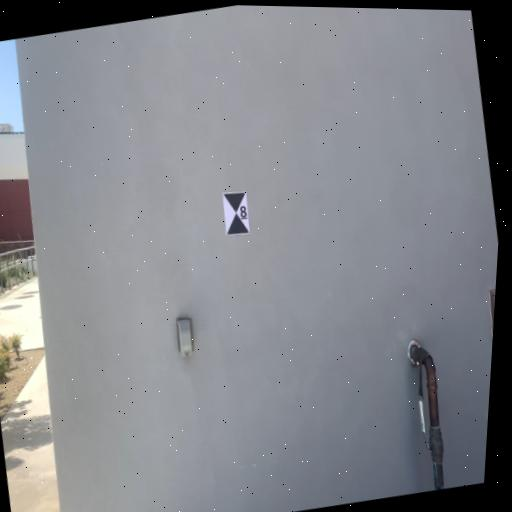target8: (220, 188, 254, 239)
